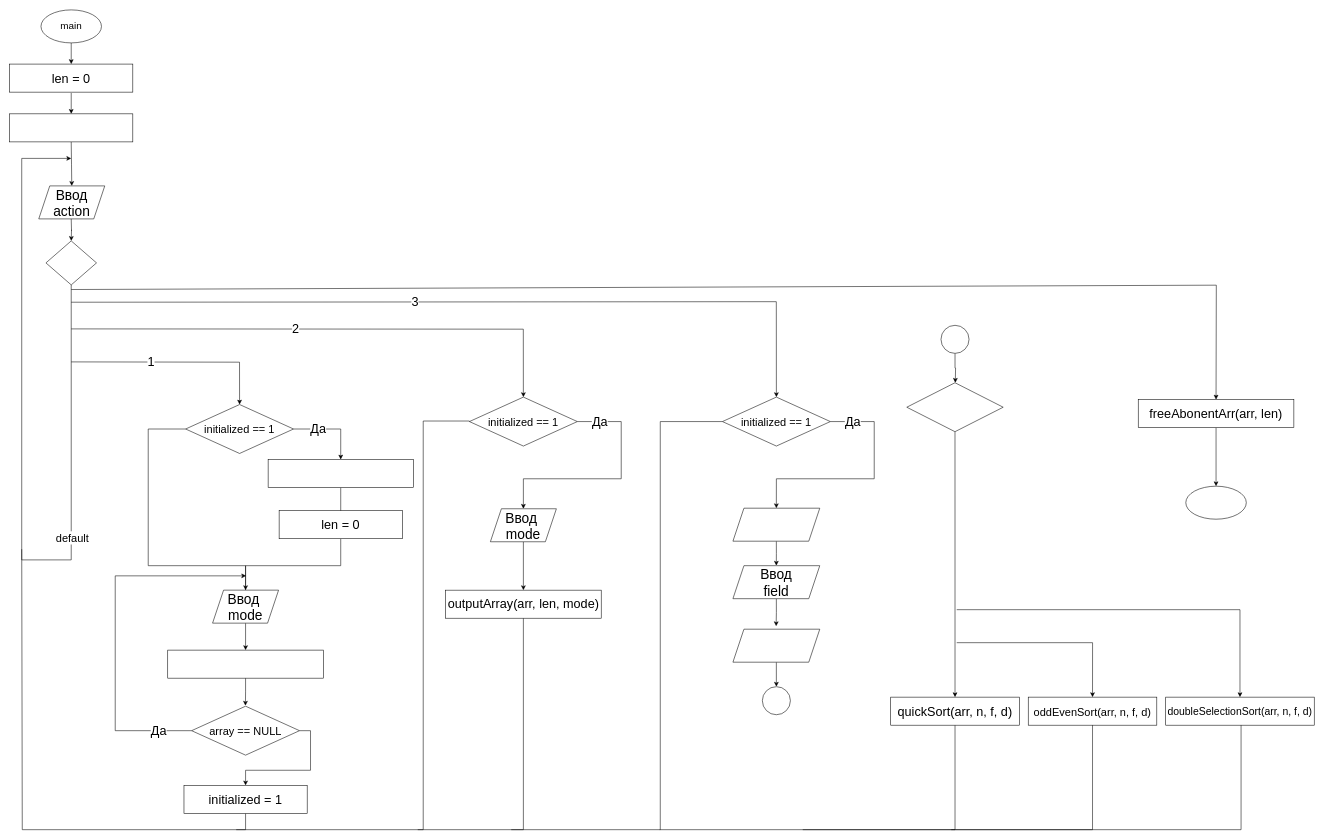
This 1324x840 diagram has some shape labels left out. The centre of each missing label's shape, as x and y in pixels:
action: point (71, 262)
arr = readArray(len, mode): point (245, 664)
freeAbonentArr(arr), len): point (340, 473)
initialized = 0: point (71, 127)
sort_algol: point (954, 407)
Ввод d: point (776, 645)
Ввод sort_algol: point (776, 524)
Конец: point (1215, 502)
